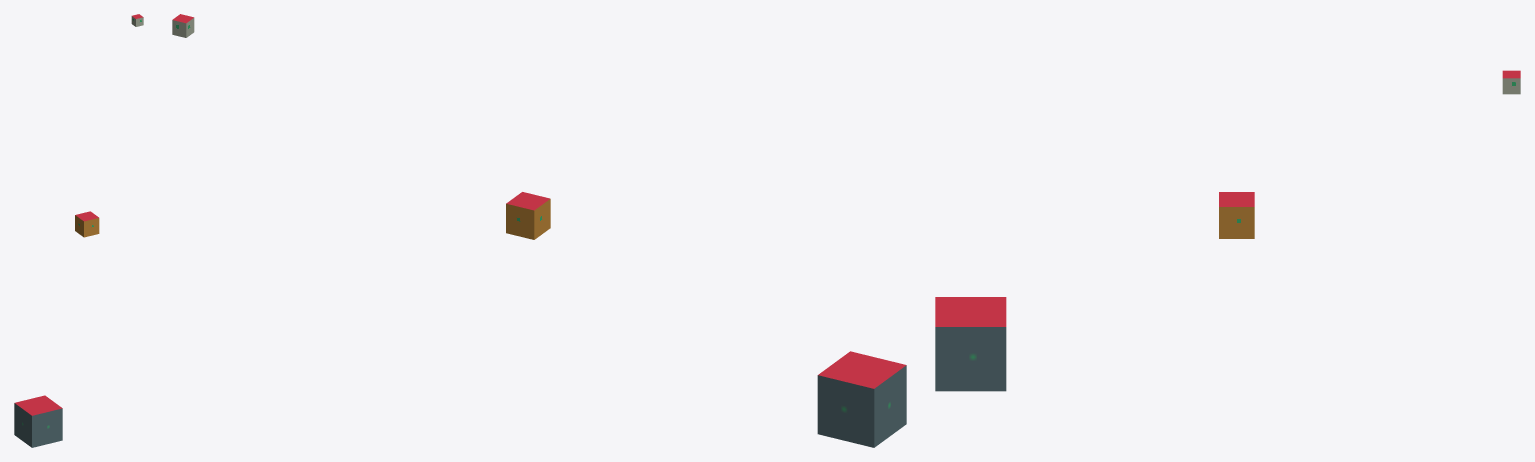
3 renders of one model, left to right at view 1: azimuth 30°, elevation 25°; view 2: azimuth 150°, elevation 25°; view 3: azimuth 270°, elevation 25°, orthographic. The views are drawn at different scales.
Parts seen in each view (by area): view 1: 石块0:c0:chunk:0,0,0, 石块1:c1:chunk:0,0,0; view 2: 石块0:c0:chunk:0,0,0, 石块1:c1:chunk:0,0,0; view 3: 石块0:c0:chunk:0,0,0, 石块1:c1:chunk:0,0,0.
Part boxes in pixels (<box>): 石块0:c0:chunk:0,0,0: <box>14,395,62,447</box>; 石块1:c1:chunk:0,0,0: <box>75,211,99,237</box>; 石块0:c0:chunk:0,0,0: <box>817,351,906,447</box>; 石块1:c1:chunk:0,0,0: <box>506,192,550,239</box>; 石块0:c0:chunk:0,0,0: <box>935,297,1006,391</box>; 石块1:c1:chunk:0,0,0: <box>1219,192,1254,238</box>.
Bounding box in the file's own units: 206 × 206 × 206.
Materials: 3 (3 with a texture image).
